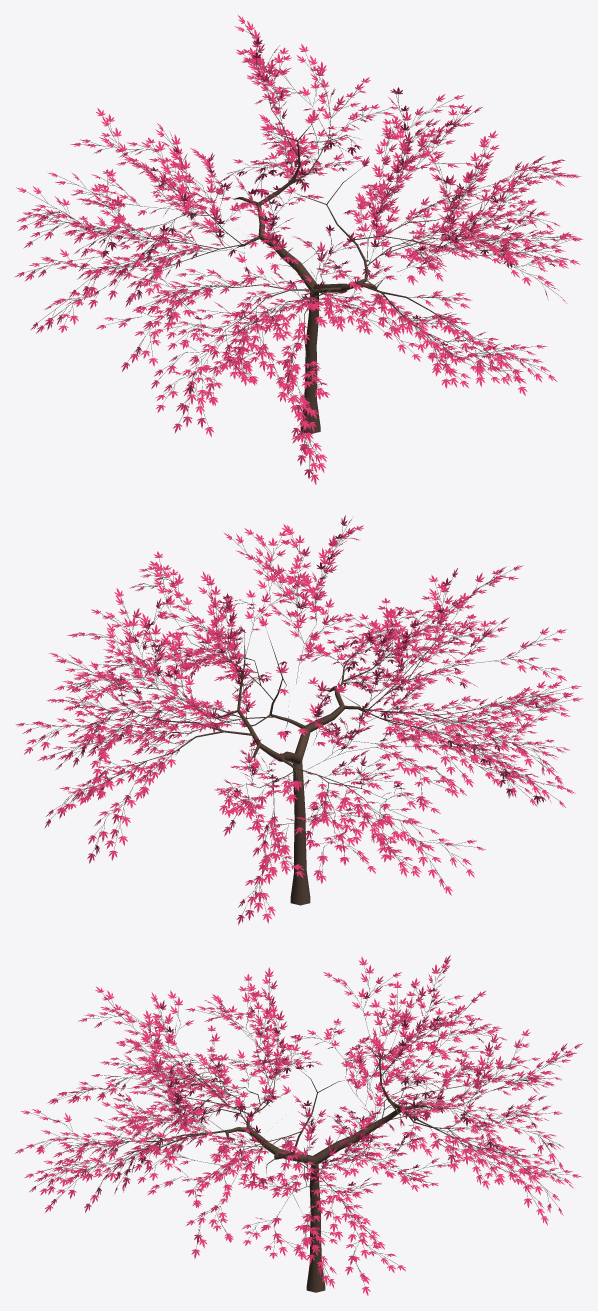
Rendered from maple_02_lod1.fbx.
3 views of the same model, one above another, from view 1: azimuth 30°, elevation 25°; view 2: azimuth 150°, elevation 25°; view 3: azimuth 270°, elevation 25° (orthographic). The views are drawn at different scales.
Visible parts, largest first — view 1: maple_02_lod2; view 2: maple_02_lod2; view 3: maple_02_lod2.
Boxes of the visible parts, box(x1,y1,x2,y2) form: maple_02_lod2: box(14, 14, 583, 484); maple_02_lod2: box(15, 515, 583, 925); maple_02_lod2: box(15, 955, 582, 1295).
Bounding box in the file's own units: 1980 × 1455 × 2251.
